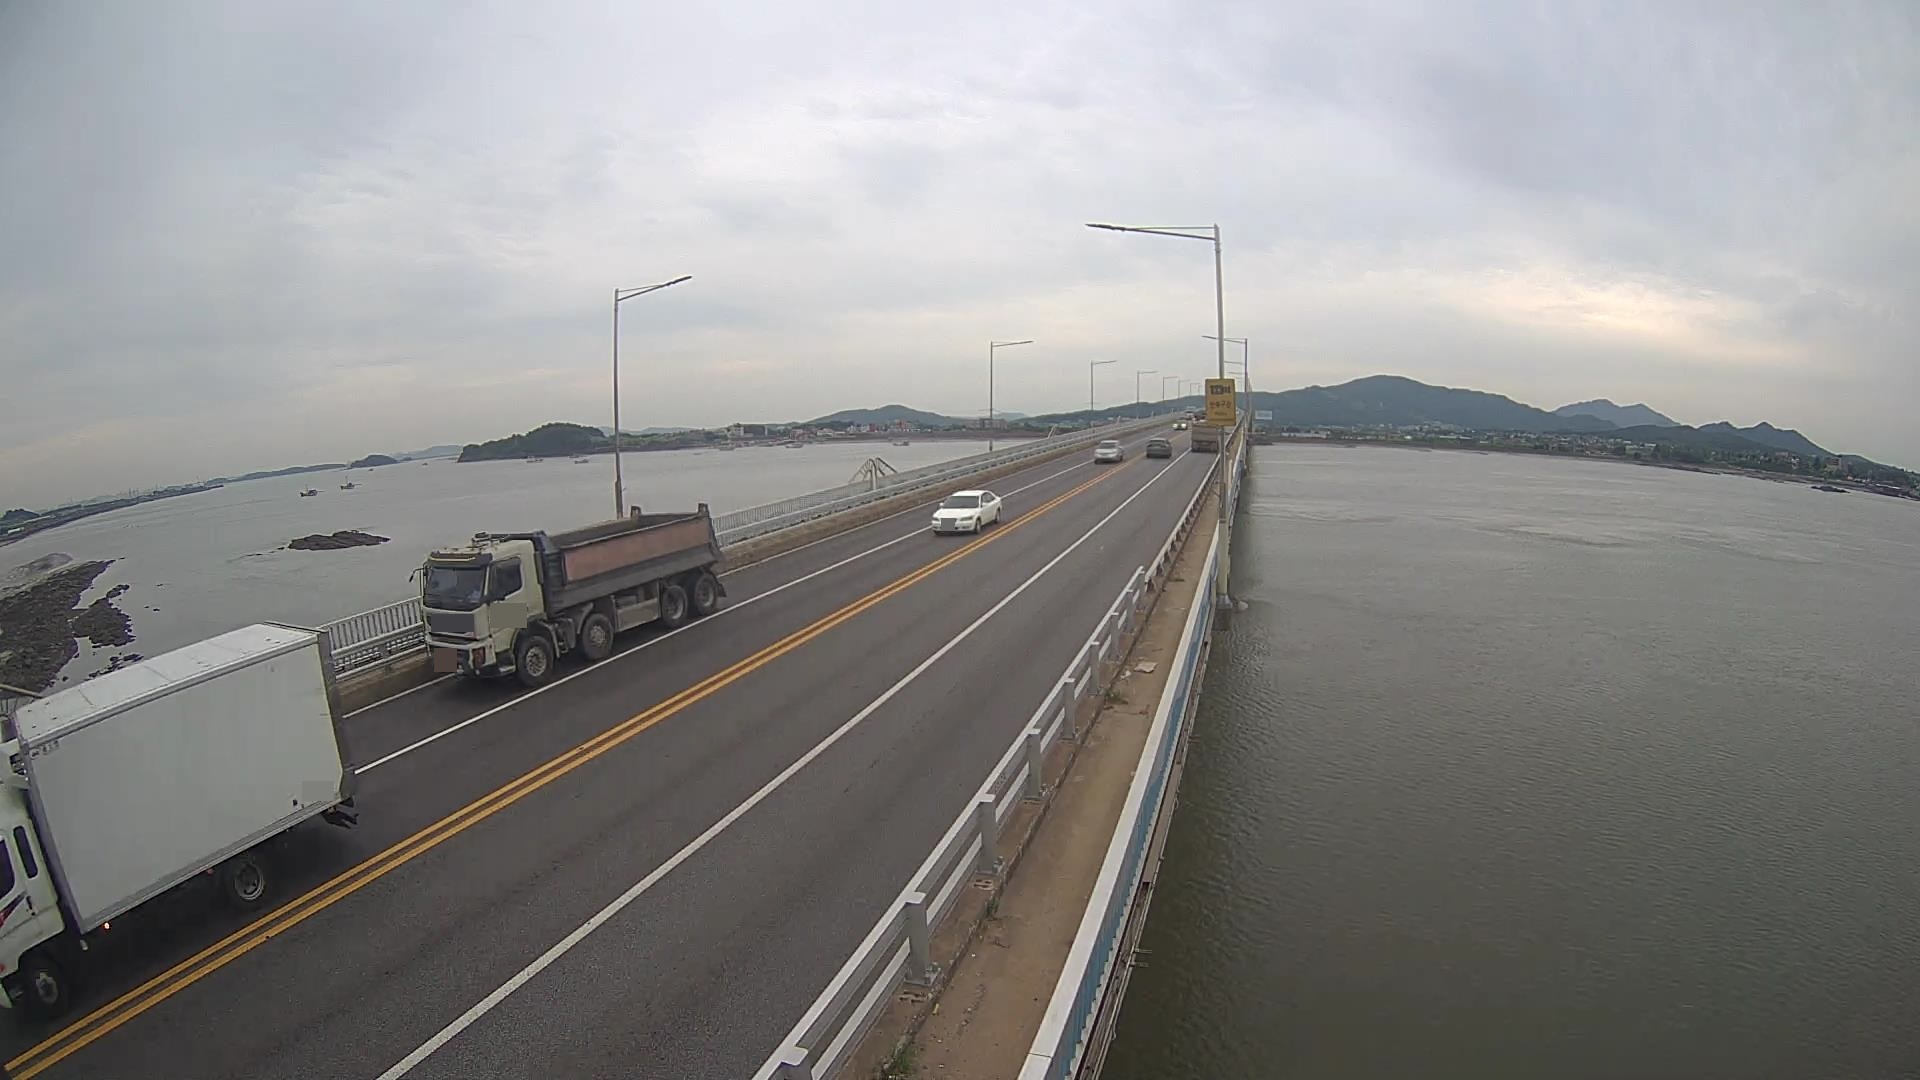정상차량: (404, 500, 731, 686)
